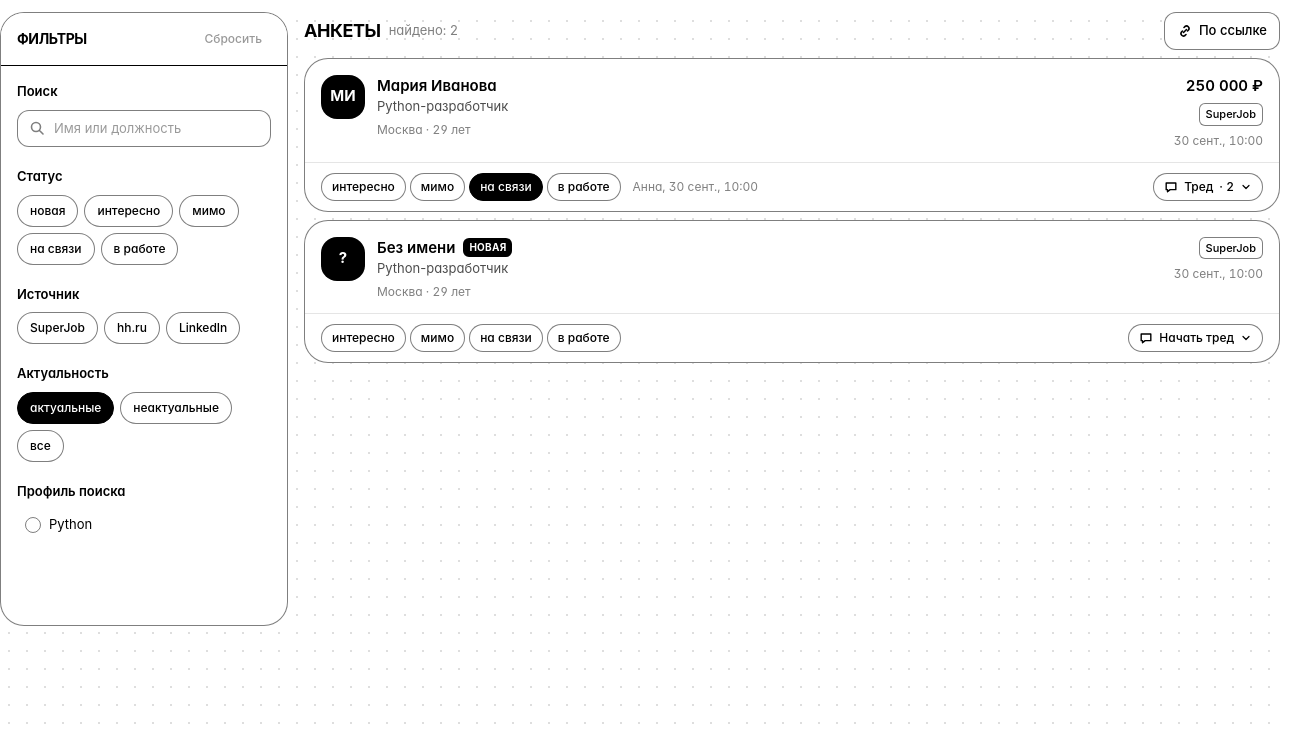
Test: FeedPage › shows import errors
The width and height of the screenshot is (1292, 732).
Click the button "По ссылке" at (1222, 31), box [1164,12,1280,50]
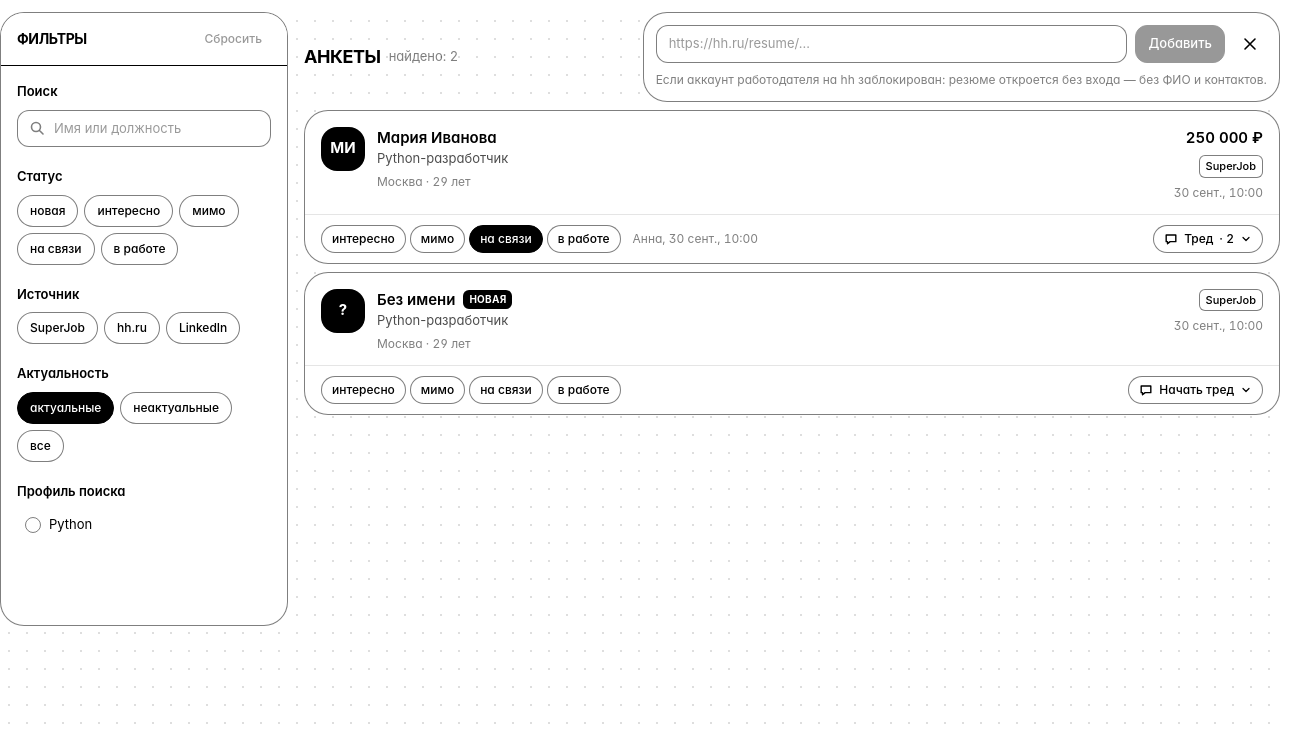
Type "https://superjob.ru/r/1" into the field named "Ссылка на резюме hh.ru" at (892, 44), box [656,25,1128,62]
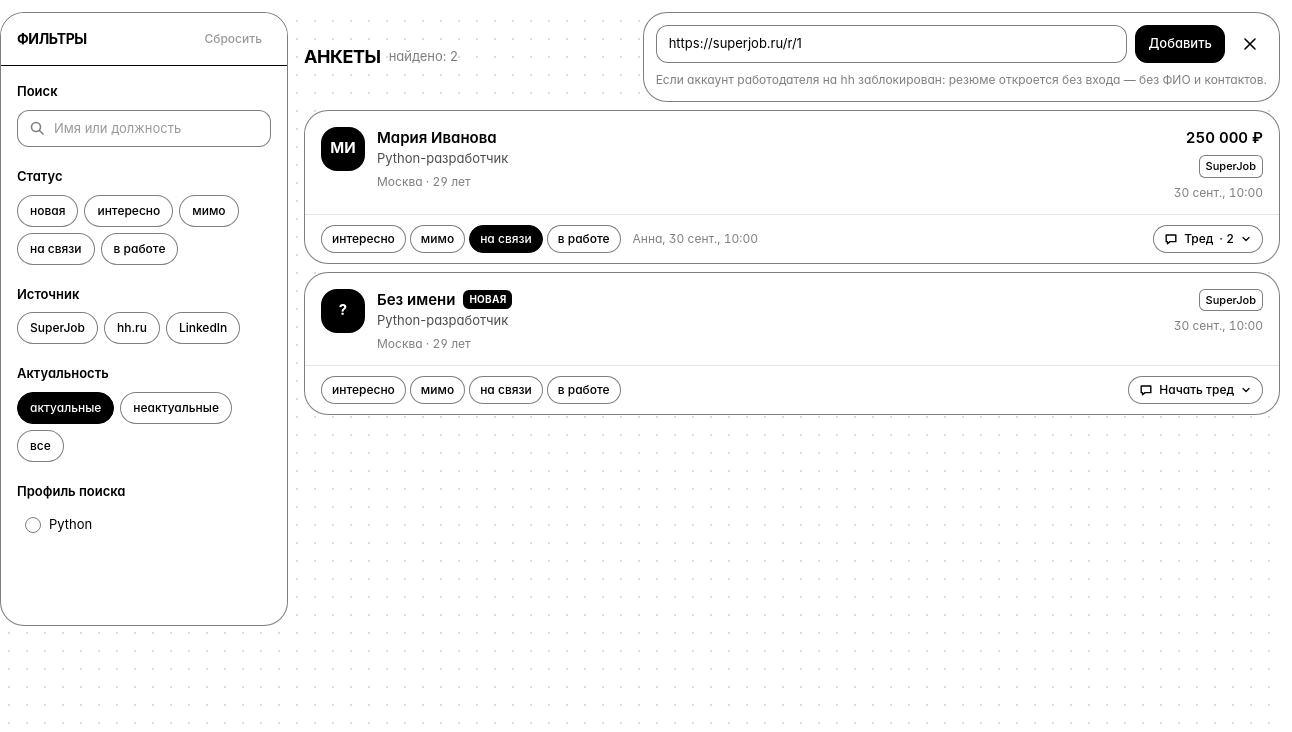
Click the button "Добавить" at (1180, 44), box [1135,25,1225,62]
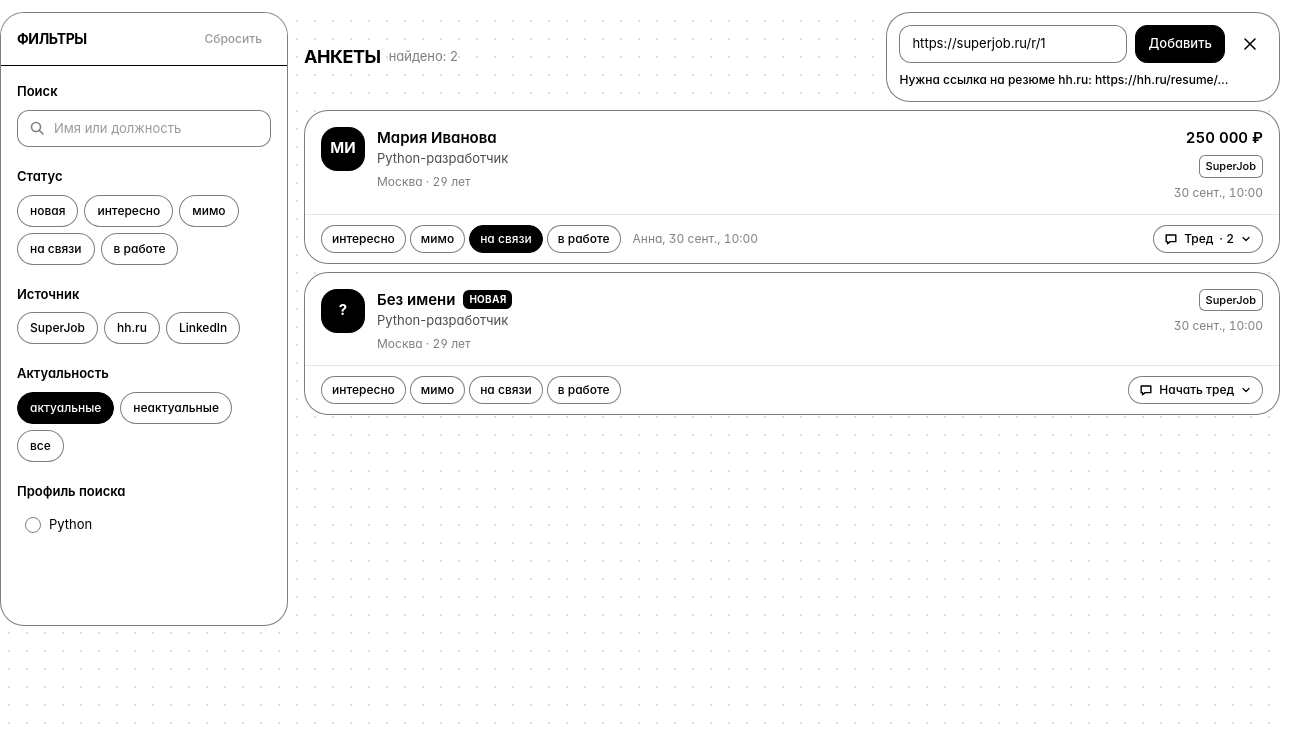
Expected: the message shows "Нужна ссылка на резюме hh.ru", [899,72,1228,86]
